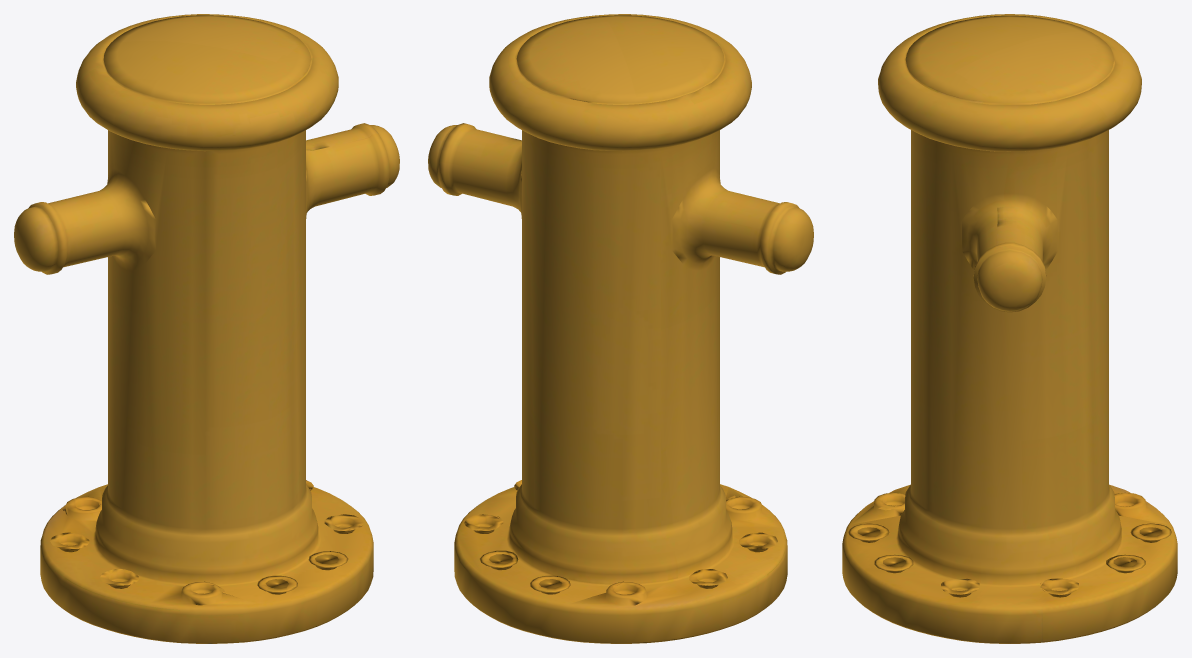
File: Urban__a_bollard_bc0b9a2c_v4.cluster.glb
3 views of the same model, side by side, from view 1: azimuth 30°, elevation 25°; view 2: azimuth 150°, elevation 25°; view 3: azimuth 270°, elevation 25° (orthographic).
Parts seen in each view (by area): view 1: material; view 2: material; view 3: material.
Boxes of the visible parts, box(x1,y1,x2,y2) form: material: box(14, 14, 399, 643); material: box(428, 14, 813, 643); material: box(842, 14, 1177, 643).
Bounding box in the file's own units: 1.4 × 1.9 × 1.1.
Materials: 1 (1 with a texture image).
